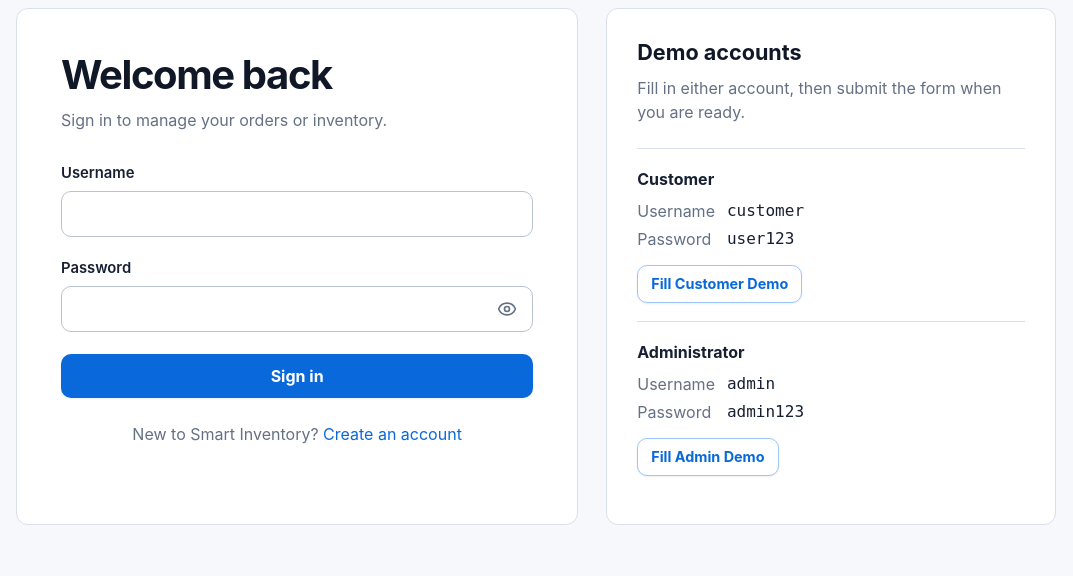
Scenario: LoginPage › shows the generic invalid credentials API error
In the field labelled "Username": (297, 214) [61,191,533,237], type "missing"
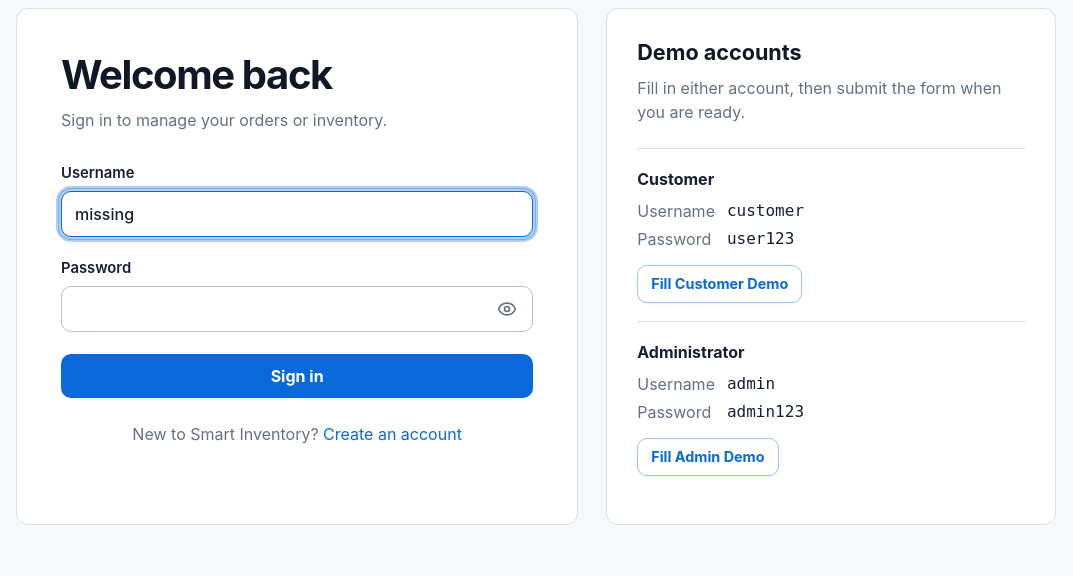
In the password field labelled "Password": (297, 309) [61,286,533,332], type "wrong"
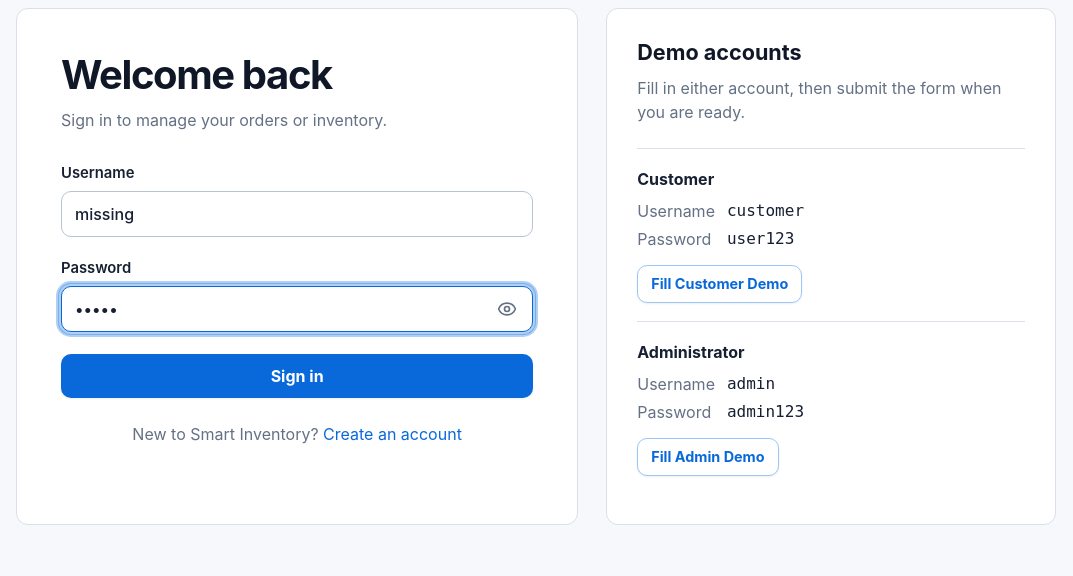
Click the button "Sign in": (297, 376) [61,354,533,398]
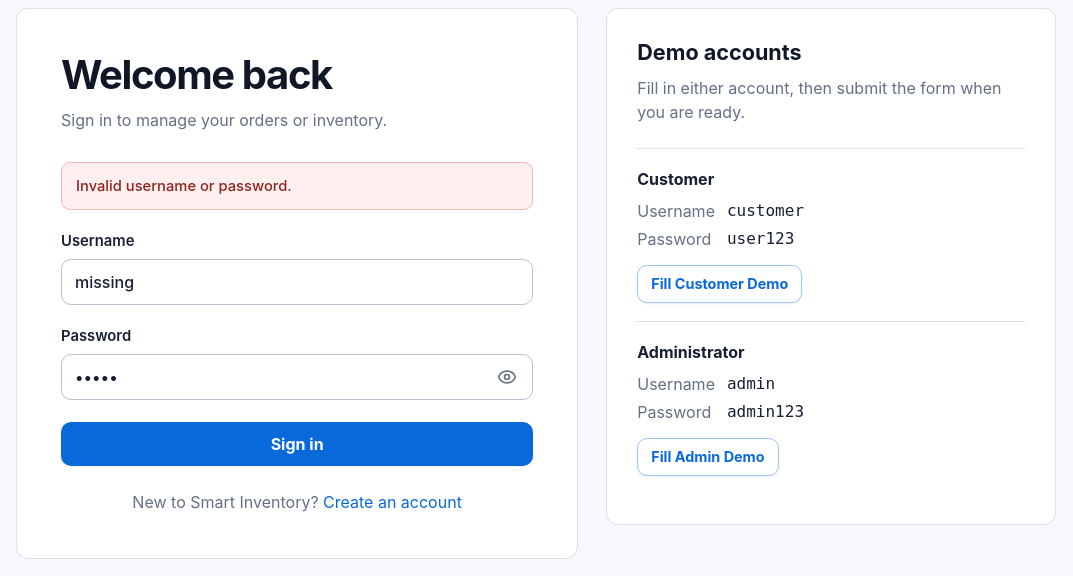
Expected: the message reads "Invalid username or password.", [76,177,292,195]
